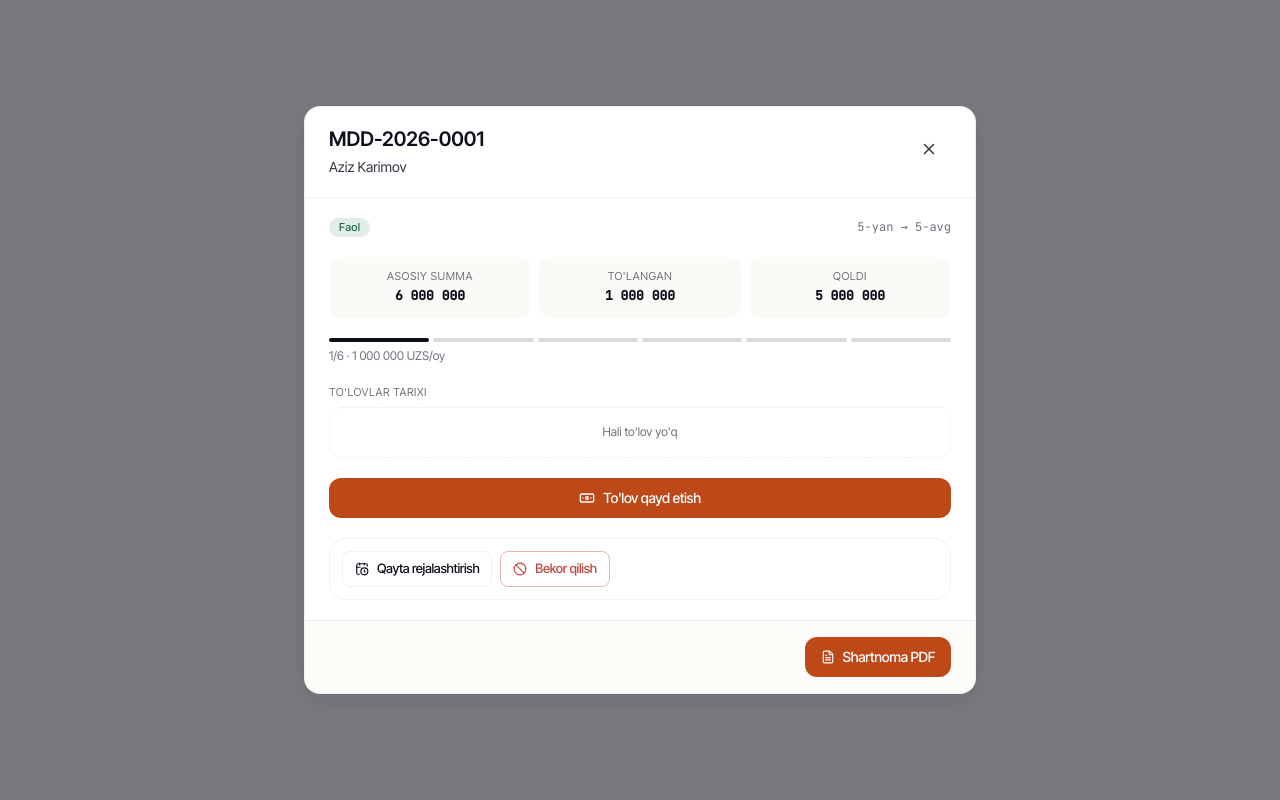
it: reschedule form — validation is disabled, not busy › enables once a change is entered, still without a spurious busy state
Click the button "Qayta rejalashtirish" at (417, 569), box top-left (342, 551), bottom-right (492, 587)
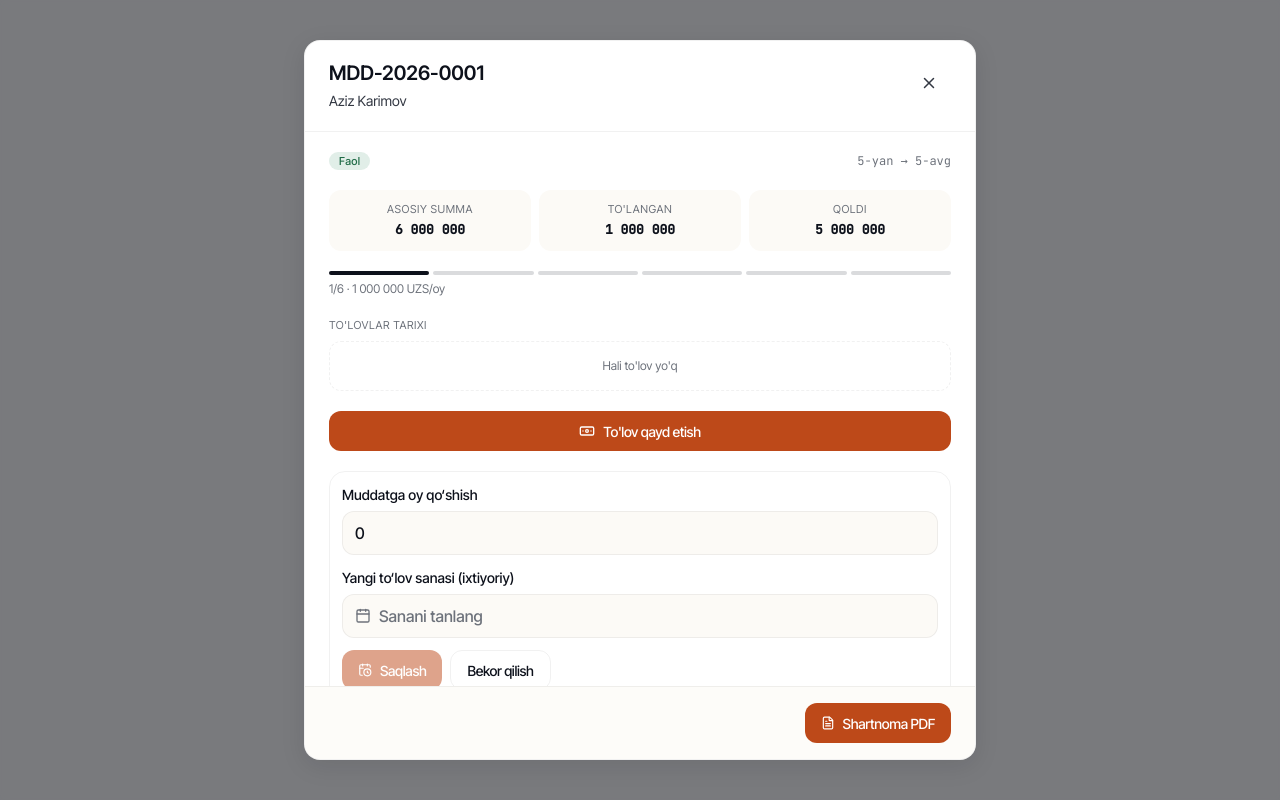
Replace the text in the number field labelled "Muddatga oy qo‘shish" with "3" at (640, 533), box top-left (342, 511), bottom-right (938, 555)
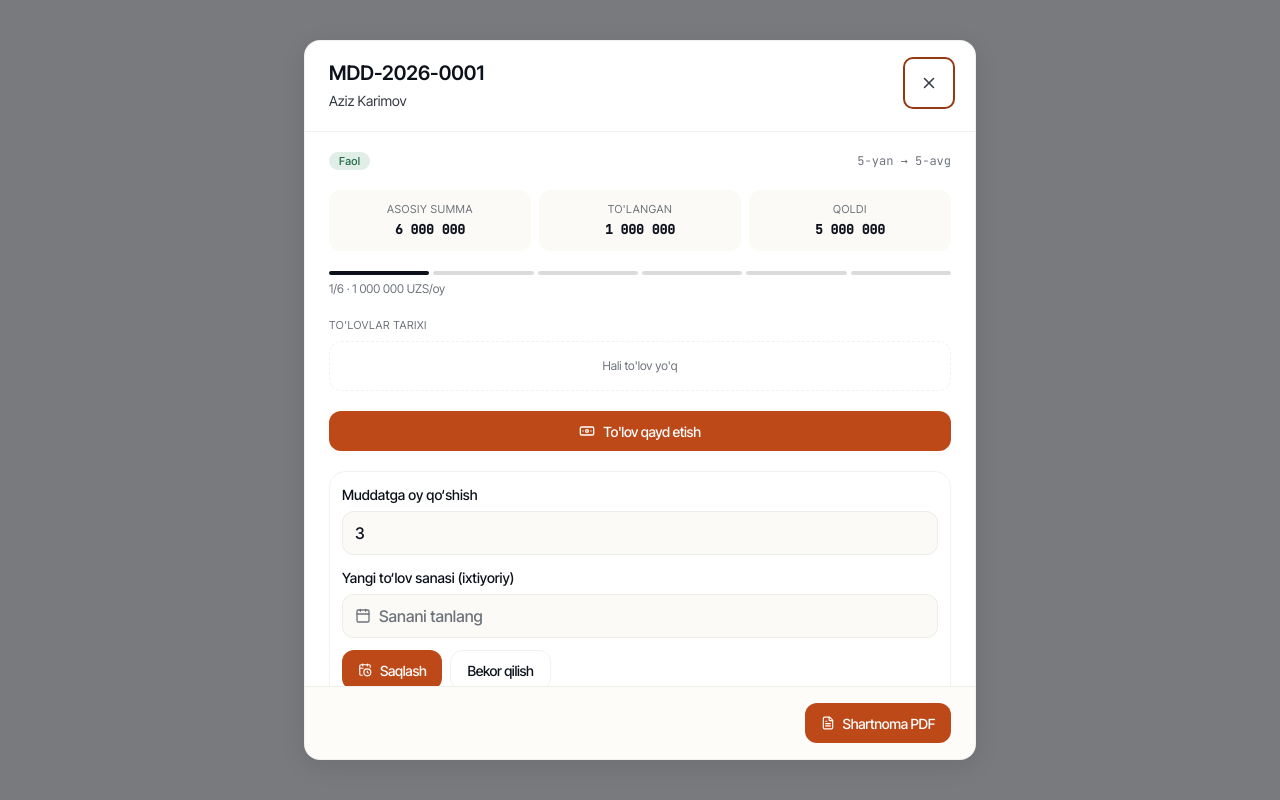
Now the button "Saqlash" is enabled, box top-left (342, 650), bottom-right (442, 686)
